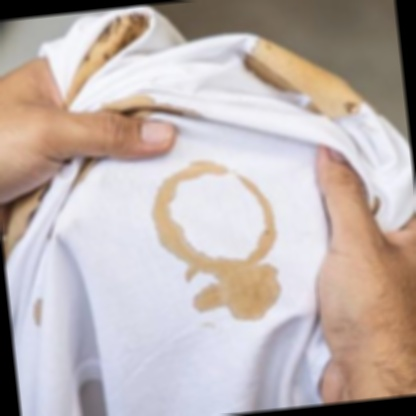coffee: (206, 254, 284, 323), (150, 184, 180, 249), (251, 222, 279, 257), (172, 165, 217, 180), (183, 247, 205, 274)
